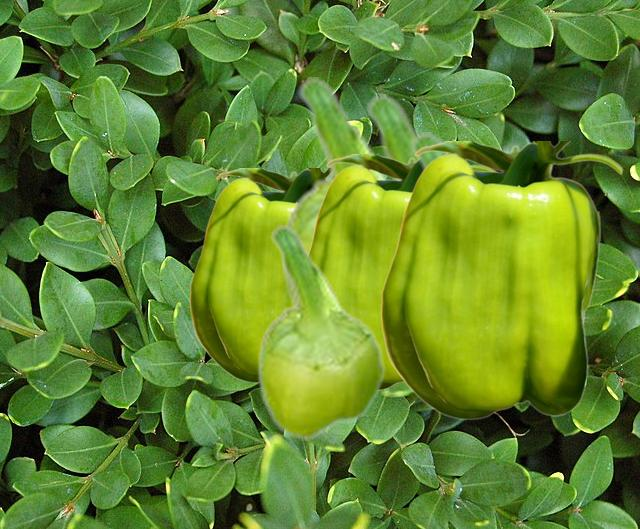bell_pepper: (380, 141, 622, 419), (308, 154, 488, 390), (189, 168, 327, 382), (256, 225, 385, 439), (280, 77, 388, 305), (358, 94, 421, 162), (403, 132, 449, 176)
